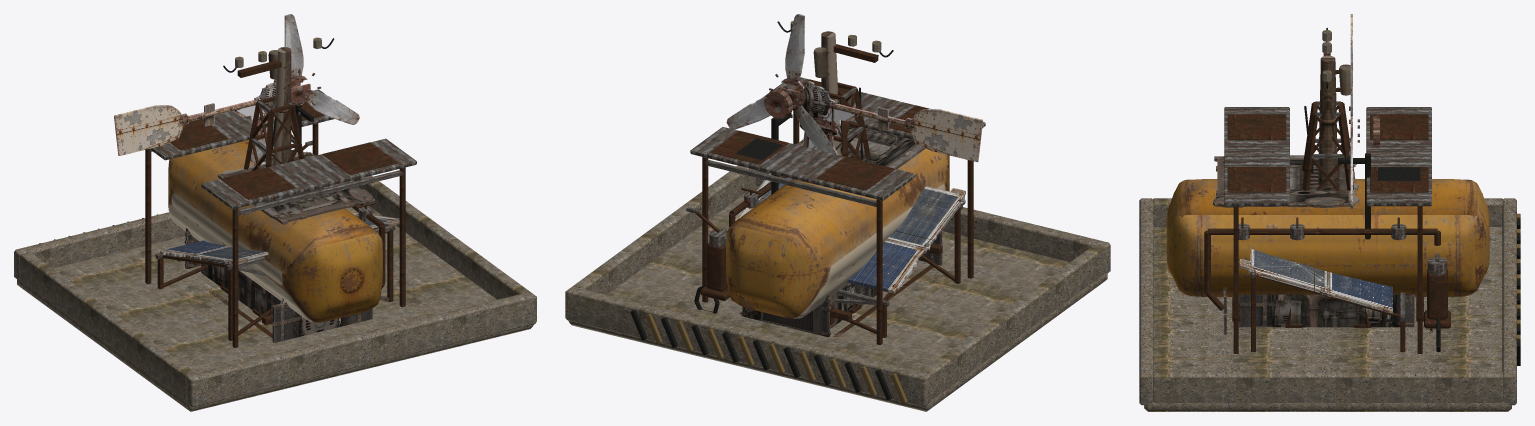
The model's file is power.glb.
3 views of the same model, side by side, from view 1: azimuth 30°, elevation 25°; view 2: azimuth 150°, elevation 25°; view 3: azimuth 270°, elevation 25° (orthographic). The views are drawn at different scales.
Parts seen in each view (by area): view 1: fuel depot bund floor, fuel-depot:photo-carved storage tank, fuel depot bund wall.001, fuel depot bund wall.002, generator:photo-carved truck engine and skid, fuel depot bund wall.003, fuel depot bund wall, generator patched tin shelter roof.001, photo-carved alternator boom and tail vane, photo-carved steel rotor blades, generator patched tin shelter roof, solar-rack:photo-cut mismatched glass panels (+9 smaller); view 2: fuel depot bund floor, fuel-depot:photo-carved storage tank, fuel depot bund wall, fuel depot bund wall.002, fuel depot bund wall.003, solar-rack:photo-cut mismatched glass panels, photo-carved alternator boom and tail vane, generator:photo-carved truck engine and skid, generator patched tin shelter roof, fuel depot bund wall.001, photo-carved steel rotor blades, generator rusted roof repair (+11 smaller); view 3: fuel depot bund floor, fuel-depot:photo-carved storage tank, fuel depot bund wall.003, generator:photo-carved truck engine and skid, solar-rack:photo-cut mismatched glass panels, generator patched tin shelter roof.001, generator patched tin shelter roof, fuel depot bund wall, fuel depot bund wall.001, round photo-lathed weathered utility pole, generator rusted roof repair.002, generator rusted roof repair.003 (+14 smaller).
Part boxes in pixels (<box>): fuel depot bund floor: <box>17,206,533,411</box>; fuel-depot:photo-carved storage tank: <box>168,140,382,322</box>; fuel depot bund wall.001: <box>185,292,536,407</box>; fuel depot bund wall.002: <box>20,252,195,400</box>; generator:photo-carved truck engine and skid: <box>184,151,374,342</box>; fuel depot bund wall.003: <box>354,175,529,299</box>; fuel depot bund wall: <box>14,180,353,278</box>; generator patched tin shelter roof.001: <box>201,138,416,209</box>; photo-carved alternator boom and tail vane: <box>114,80,276,155</box>; photo-carved steel rotor blades: <box>250,14,359,165</box>; generator patched tin shelter roof: <box>149,89,333,160</box>; solar-rack:photo-cut mismatched glass panels: <box>160,211,399,264</box>; fuel depot bund floor: <box>568,185,1107,411</box>; fuel-depot:photo-carved storage tank: <box>726,148,949,318</box>; fuel depot bund wall: <box>565,286,931,407</box>; fuel depot bund wall.002: <box>921,245,1104,399</box>; fuel depot bund wall.003: <box>572,165,755,294</box>; solar-rack:photo-cut mismatched glass panels: <box>727,173,965,293</box>; photo-carved alternator boom and tail vane: <box>800,81,982,162</box>; generator:photo-carved truck engine and skid: <box>741,125,943,337</box>; generator patched tin shelter roof: <box>690,127,915,200</box>; fuel depot bund wall.001: <box>756,170,1110,272</box>; photo-carved steel rotor blades: <box>726,14,840,154</box>; generator rusted roof repair: <box>817,156,894,190</box>; fuel depot bund floor: <box>1144,227,1511,411</box>; fuel-depot:photo-carved storage tank: <box>1166,179,1489,296</box>; fuel depot bund wall.003: <box>1153,370,1503,404</box>; generator:photo-carved truck engine and skid: <box>1213,155,1432,334</box>; solar-rack:photo-cut mismatched glass panels: <box>1239,249,1392,313</box>; generator patched tin shelter roof.001: <box>1224,107,1289,206</box>; generator patched tin shelter roof: <box>1366,107,1431,206</box>; fuel depot bund wall: <box>1502,198,1516,405</box>; fuel depot bund wall.001: <box>1139,198,1153,405</box>; round photo-lathed weathered utility pole: <box>1318,55,1337,187</box>; generator rusted roof repair.002: <box>1227,114,1286,140</box>; generator rusted roof repair.003: <box>1227,167,1286,192</box>.
Bounding box in the file's own units: 8.5 × 6.55 × 7.68.
17 materials, 17 textured.
